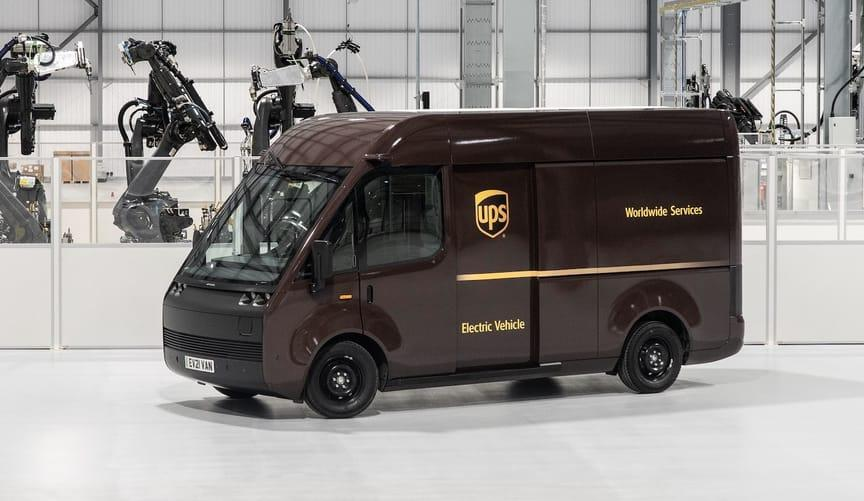van: (162, 107, 745, 419)
